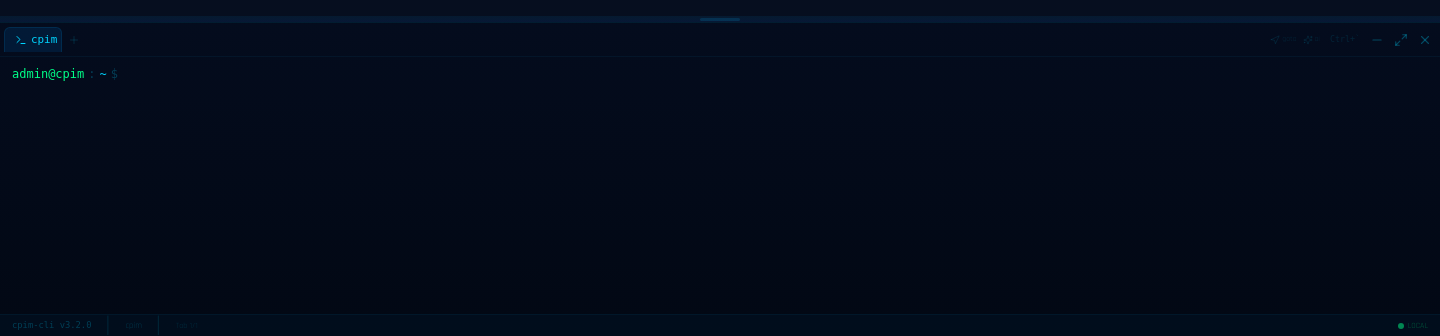
Scenario: IntegratedTerminal › Tab 管理 › 新建 Tab 后激活并更新状态栏
Step 1. Click the button titled "新建终端 Tab" → (74, 40), box [64, 30, 84, 50]
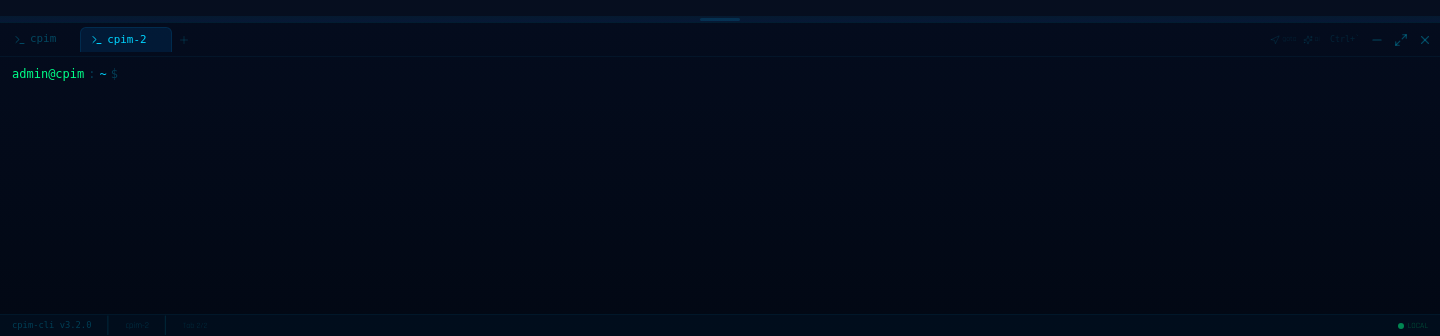
Check: the text "cpim-2" in the row of "goto" is shown, box [107, 33, 146, 46]
